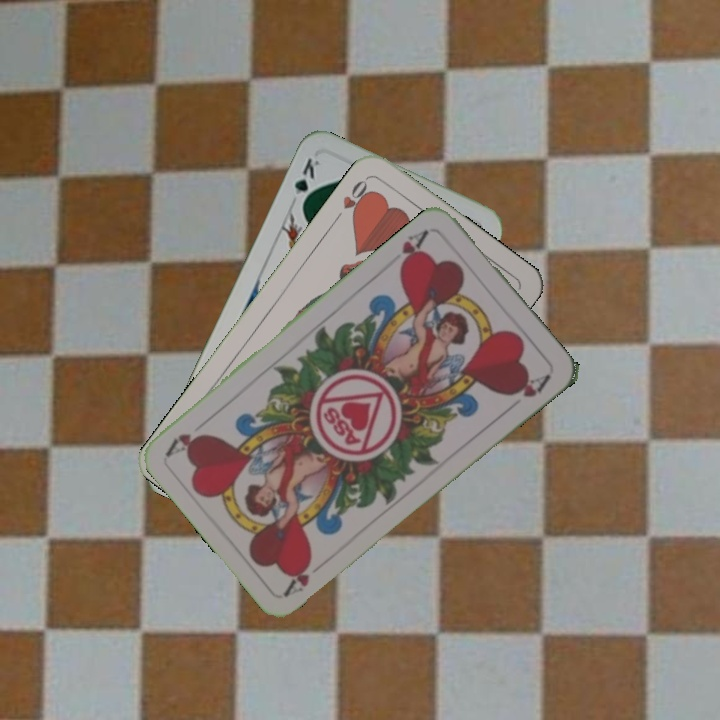GK: (290, 154, 323, 211)
HA: (280, 553, 330, 599), (394, 225, 432, 275)
HO: (330, 174, 375, 225)
